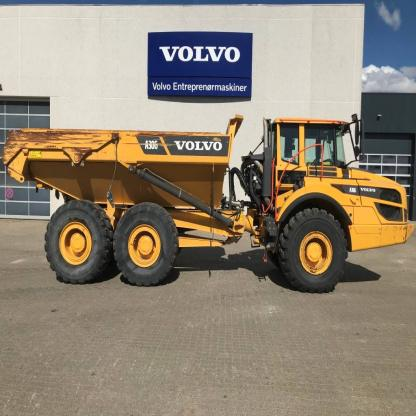dump_truck: (11, 99, 412, 300)
